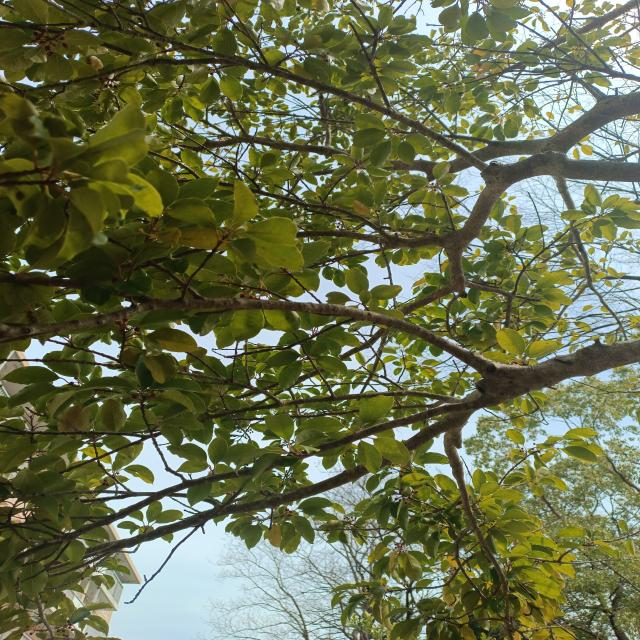Branch: (442, 151, 640, 256), (427, 93, 640, 177), (469, 338, 640, 405)
Twig: (11, 403, 469, 560), (77, 22, 488, 169), (66, 411, 469, 554), (0, 391, 469, 475), (0, 298, 499, 374), (85, 128, 392, 238), (444, 425, 516, 639), (115, 230, 442, 270), (198, 132, 443, 171)
